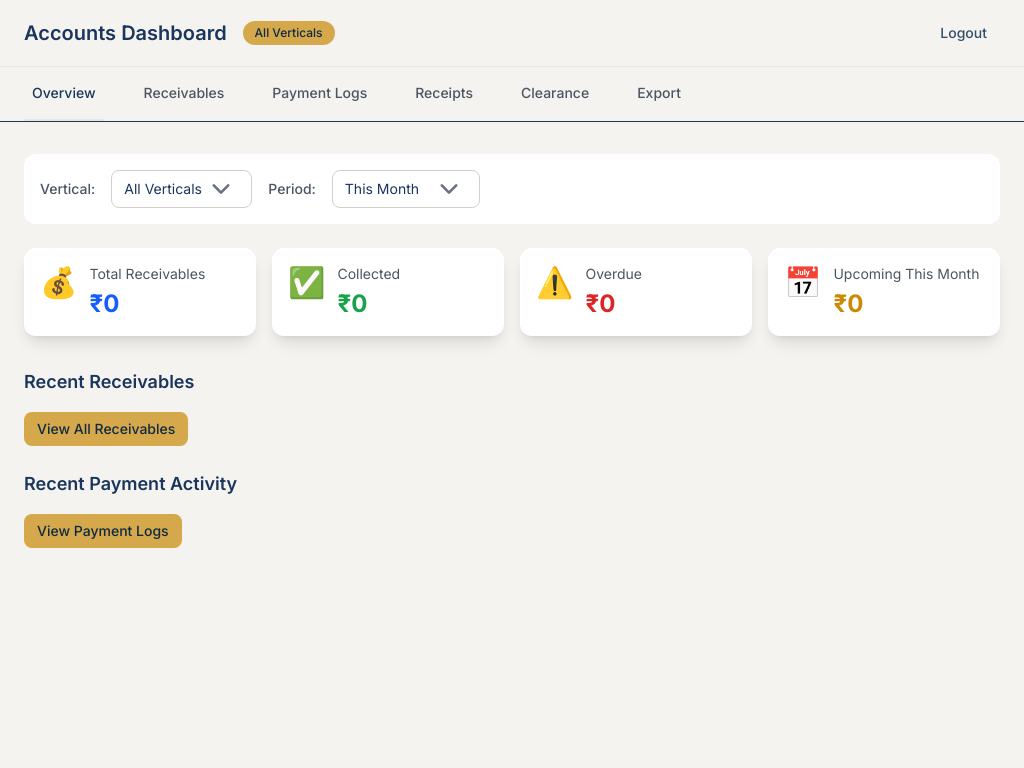
Test: Task 16: Accounts / Accounting Team Dashboards › 16.1 - Tab Navigation › should show Receipts placeholder
The width and height of the screenshot is (1024, 768).
Click the button "Receipts". click: (444, 94)
box: [407,67,481,121]
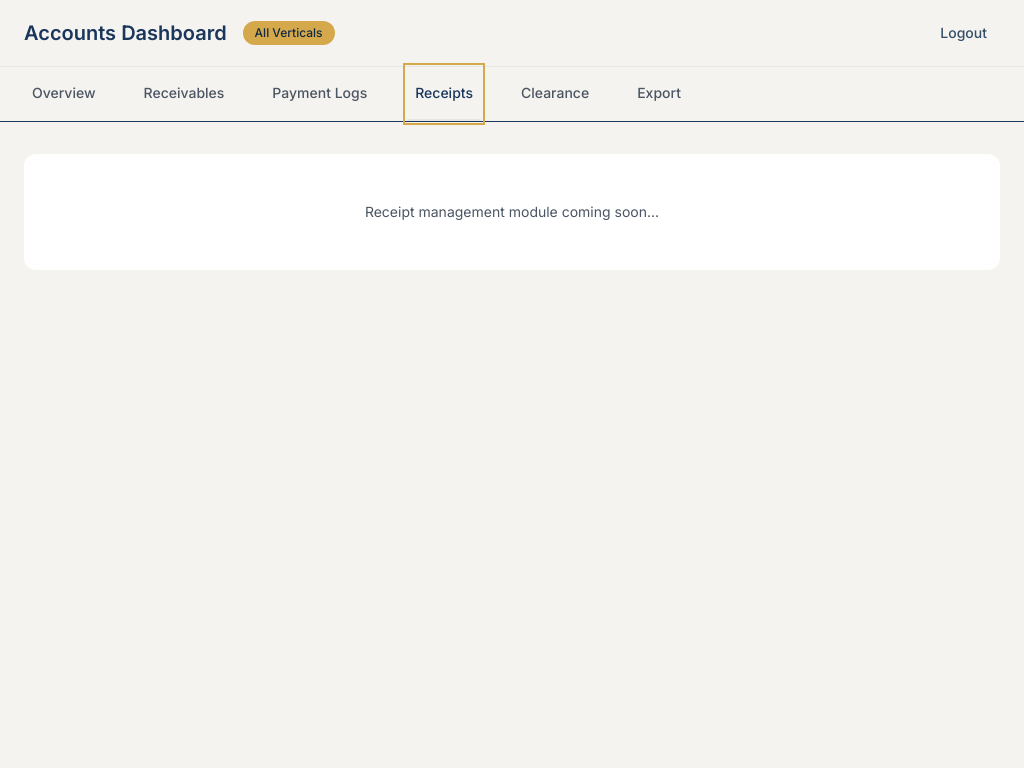
Now the text "Receipt management module coming soon..." is shown, box [365,203,659,220]
